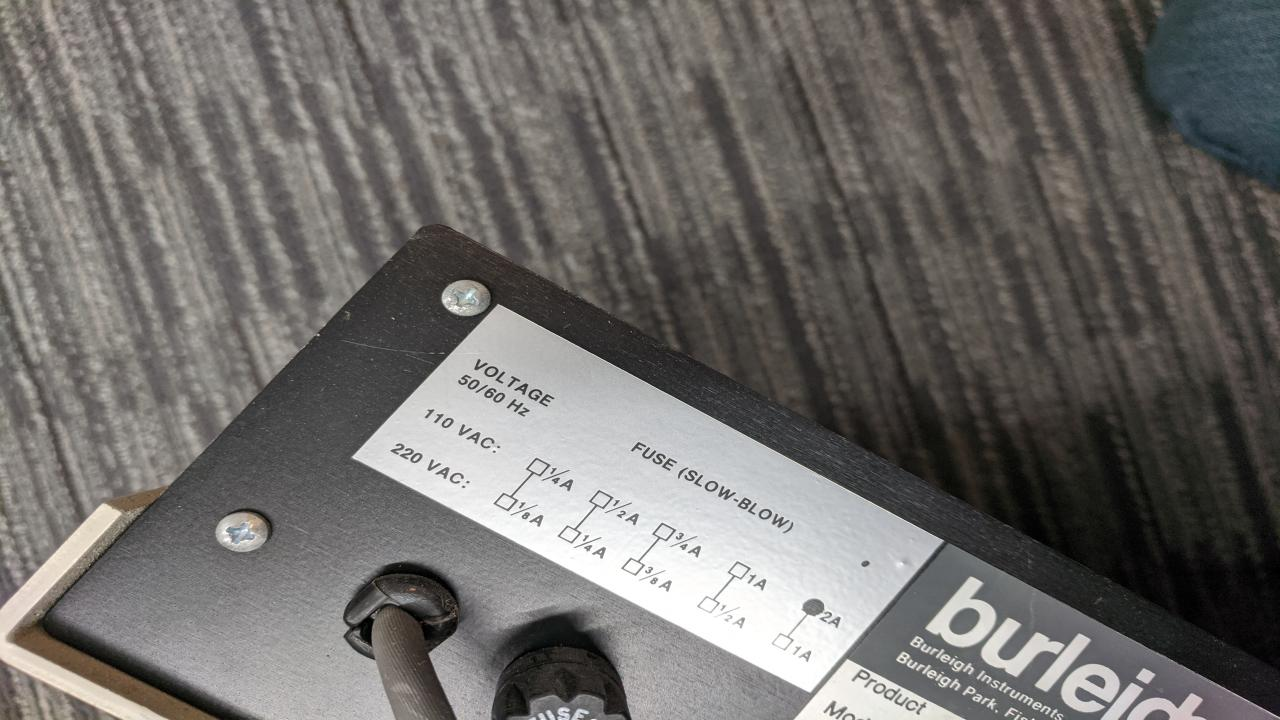CRS: (216, 512, 269, 553), (440, 280, 492, 318)
